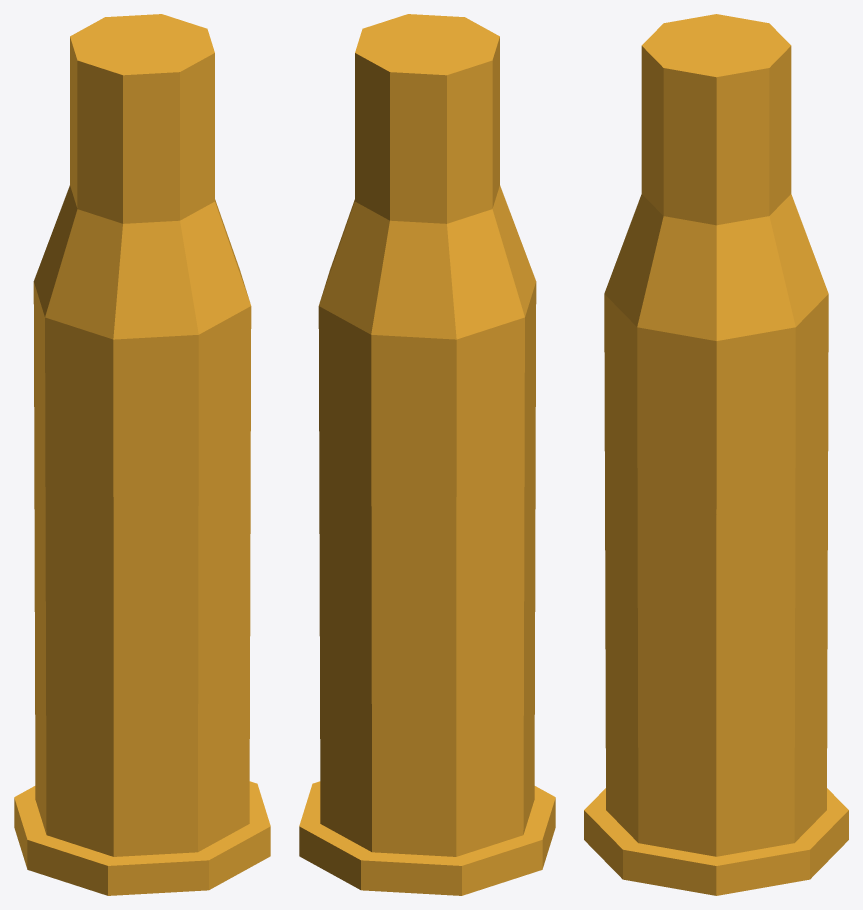
3 views of the same model, side by side, from view 1: azimuth 30°, elevation 25°; view 2: azimuth 150°, elevation 25°; view 3: azimuth 270°, elevation 25° (orthographic).
Parts seen in each view (by area): view 1: Bullet; view 2: Bullet; view 3: Bullet.
Boxes of the visible parts, <box> form: Bullet: <box>14,14,270,895</box>; Bullet: <box>299,14,555,895</box>; Bullet: <box>584,14,848,895</box>.
Bounding box in the file's own units: 14.99 × 49.64 × 14.99.
Materials: 1 (1 with a texture image).
